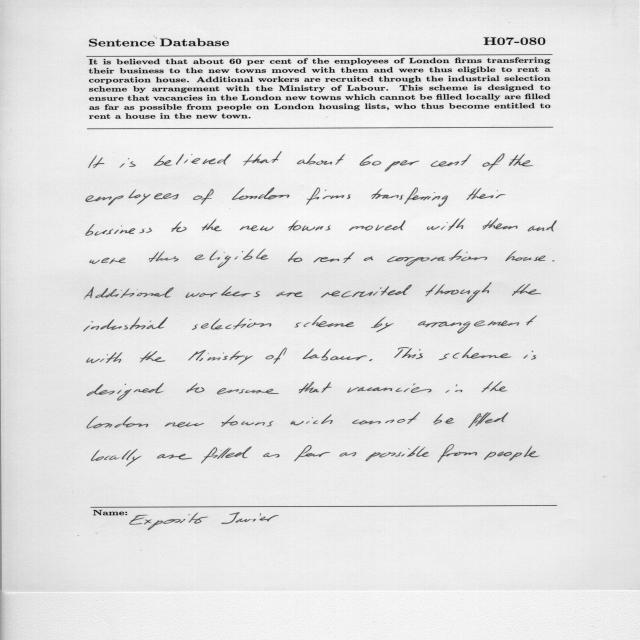word: (418, 316, 537, 334), (387, 250, 487, 267), (86, 189, 179, 206), (371, 188, 448, 207), (195, 249, 269, 268), (425, 283, 492, 303), (87, 383, 164, 400), (321, 285, 412, 298), (84, 317, 168, 331), (84, 287, 174, 298), (188, 350, 253, 365), (192, 318, 271, 330), (366, 446, 429, 461), (439, 347, 511, 360), (154, 154, 231, 166), (185, 286, 260, 298), (201, 447, 252, 464), (92, 449, 142, 466), (348, 383, 432, 393), (484, 446, 540, 461), (303, 348, 367, 361), (352, 413, 420, 425), (86, 224, 152, 236), (306, 188, 351, 205), (232, 187, 289, 200), (87, 416, 148, 428), (295, 316, 355, 328), (437, 445, 477, 463), (469, 412, 509, 428), (349, 220, 406, 231), (222, 415, 274, 427), (294, 445, 330, 461), (244, 151, 282, 166), (297, 154, 345, 165), (431, 154, 471, 167), (427, 218, 465, 231), (288, 220, 331, 231), (290, 414, 333, 425), (467, 188, 505, 200), (314, 252, 355, 263), (483, 218, 518, 230), (505, 251, 546, 261), (385, 160, 419, 172), (483, 153, 505, 171), (87, 352, 122, 363), (217, 388, 279, 394), (371, 317, 394, 333), (299, 382, 332, 393), (512, 284, 541, 296), (394, 347, 423, 359), (266, 348, 287, 364), (149, 251, 179, 262), (528, 221, 557, 232), (193, 189, 214, 204), (509, 154, 534, 166), (482, 382, 508, 393), (140, 351, 165, 362), (90, 257, 126, 264), (202, 219, 222, 231), (360, 155, 381, 166), (434, 414, 455, 425), (157, 454, 192, 460), (240, 225, 274, 231), (165, 422, 204, 427), (89, 156, 104, 168), (187, 383, 205, 393), (120, 158, 136, 168), (288, 251, 302, 262), (446, 384, 463, 393), (172, 222, 187, 232), (276, 292, 303, 297), (524, 351, 536, 360), (263, 453, 280, 458), (340, 452, 357, 457), (364, 256, 373, 261), (369, 359, 373, 361), (552, 260, 555, 262)
